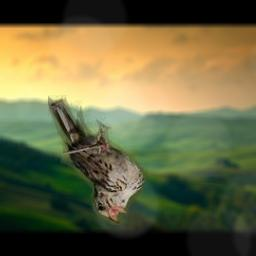Sparrow: (48, 95, 148, 225)
